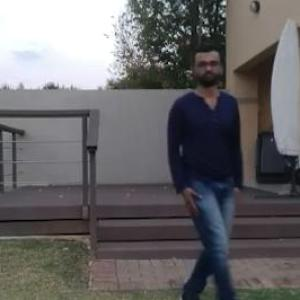follow: (152, 37, 248, 299)
